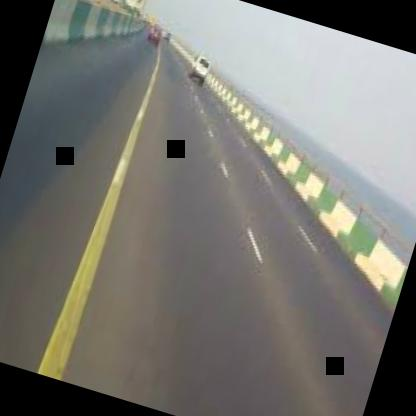car: (175, 53, 214, 100), (140, 21, 167, 53)
